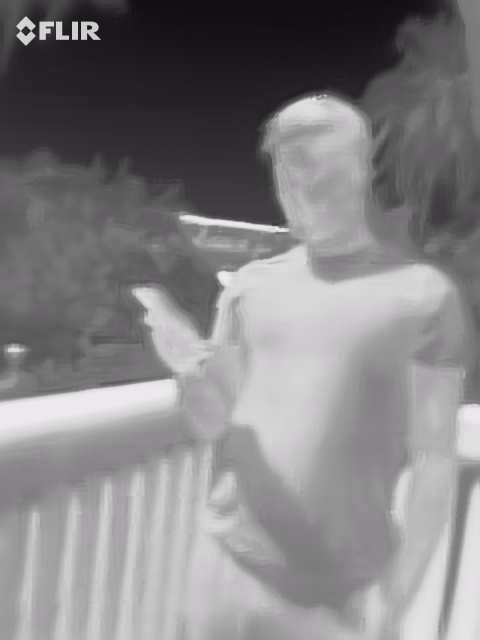head: (258, 98, 377, 243)
